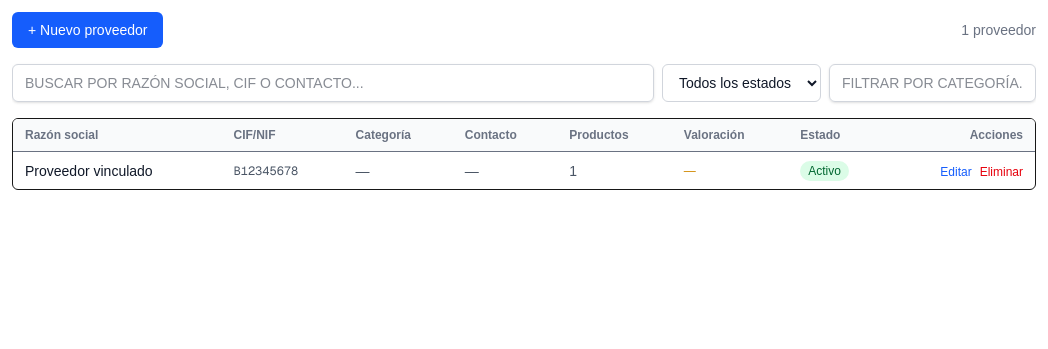
Test: SuppliersPanel › shows why a supplier was not deleted when the API returns a conflict
The image size is (1048, 349).
Click the button "Eliminar".
click(1001, 172)  # box [980,164,1023,180]
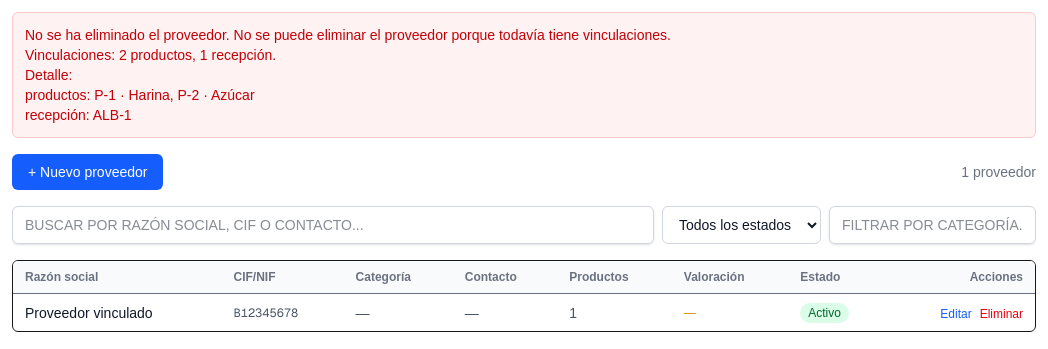
Now the message shows "No se ha eliminado el proveedor", box [25,27,671,123]
Now the message shows "2 productos, 1 recepción", box [25,27,671,123]
Now the message shows "productos: P-1 · Harina, P-2 · Azúcar", box [25,27,671,123]
